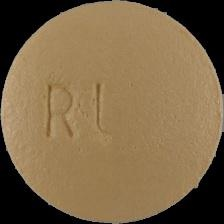16252-615: (0, 0, 224, 224)
